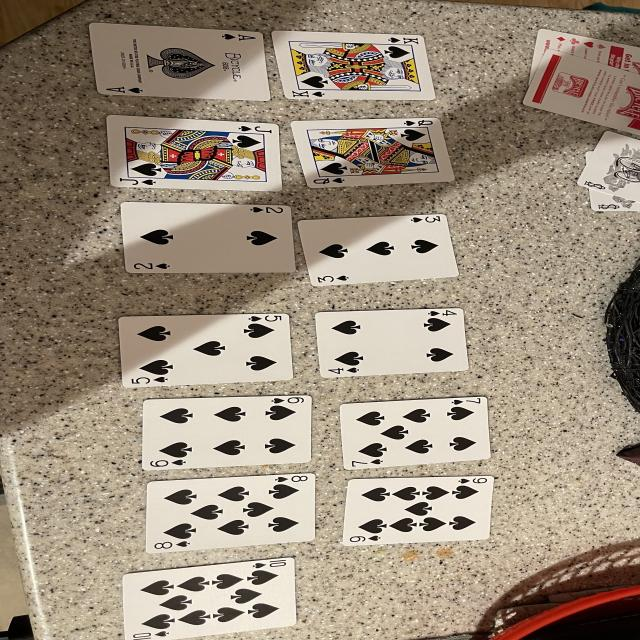10 of spades: (122, 558, 296, 640)
2 of spades: (120, 202, 296, 272)
3 of spades: (298, 214, 458, 286)
4 of spades: (316, 308, 469, 378)
5 of spades: (118, 314, 293, 388)
6 of spades: (142, 395, 311, 470)
7 of spades: (340, 396, 491, 470)
8 of spades: (144, 472, 316, 552)
9 of spades: (342, 476, 493, 546)
Ace of spades: (89, 22, 269, 101)
Jack of spades: (107, 115, 282, 191)
Joker: (578, 131, 640, 202), (589, 190, 640, 211)
King of spades: (271, 31, 436, 100)
Queen of spades: (293, 118, 453, 188)
